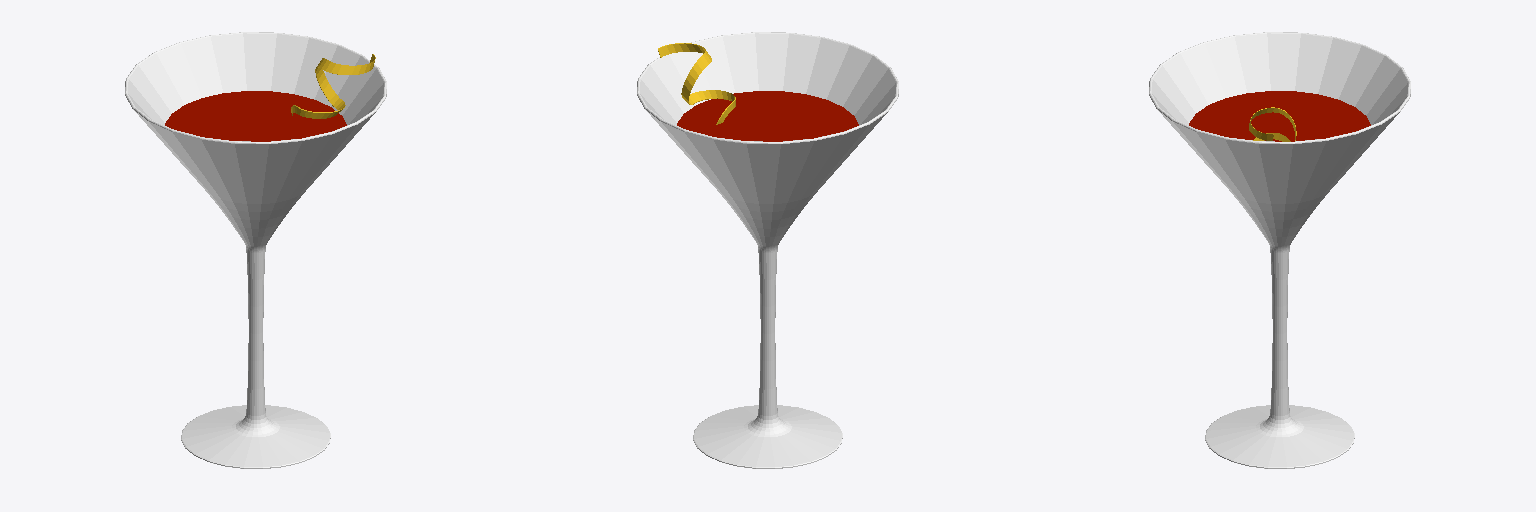
File: MixDrink1.obj
3 views of the same model, side by side, from view 1: azimuth 30°, elevation 25°; view 2: azimuth 150°, elevation 25°; view 3: azimuth 270°, elevation 25° (orthographic).
Parts seen in each view (by area): view 1: Mesh1 Cosmopolitan_1_1 Cosmopolitano1 Cosmopolitano_1_1 Model, Mesh2 Component_7_1 Cosmopolitano1 Cosmopolitano_1_1 Model; view 2: Mesh1 Cosmopolitan_1_1 Cosmopolitano1 Cosmopolitano_1_1 Model, Mesh2 Component_7_1 Cosmopolitano1 Cosmopolitano_1_1 Model; view 3: Mesh1 Cosmopolitan_1_1 Cosmopolitano1 Cosmopolitano_1_1 Model, Mesh2 Component_7_1 Cosmopolitano1 Cosmopolitano_1_1 Model.
Boxes of the visible parts, x1,y1,x2,y2 form: Mesh1 Cosmopolitan_1_1 Cosmopolitano1 Cosmopolitano_1_1 Model: [125, 32, 386, 468]; Mesh2 Component_7_1 Cosmopolitano1 Cosmopolitano_1_1 Model: [291, 54, 375, 118]; Mesh1 Cosmopolitan_1_1 Cosmopolitano1 Cosmopolitano_1_1 Model: [637, 32, 898, 468]; Mesh2 Component_7_1 Cosmopolitano1 Cosmopolitano_1_1 Model: [658, 43, 735, 124]; Mesh1 Cosmopolitan_1_1 Cosmopolitano1 Cosmopolitano_1_1 Model: [1149, 32, 1410, 468]; Mesh2 Component_7_1 Cosmopolitano1 Cosmopolitano_1_1 Model: [1249, 107, 1296, 141].
Bounding box in the file's own units: 0.1223 × 0.1868 × 0.1223.